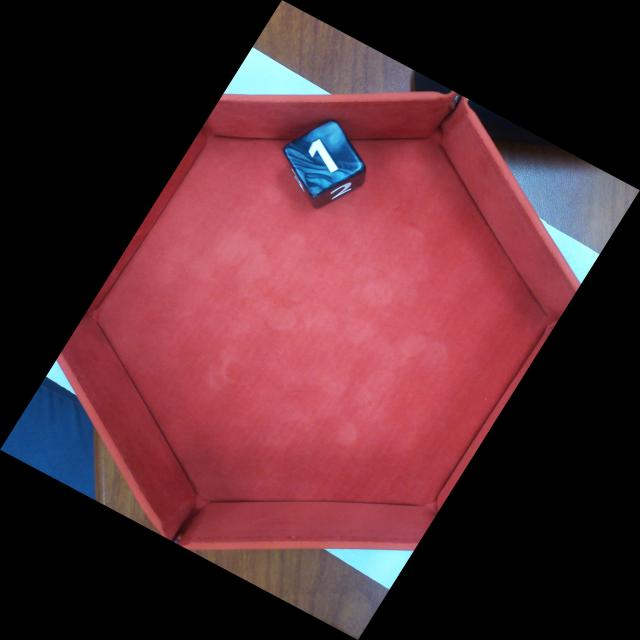dice: (279, 118, 369, 202)
